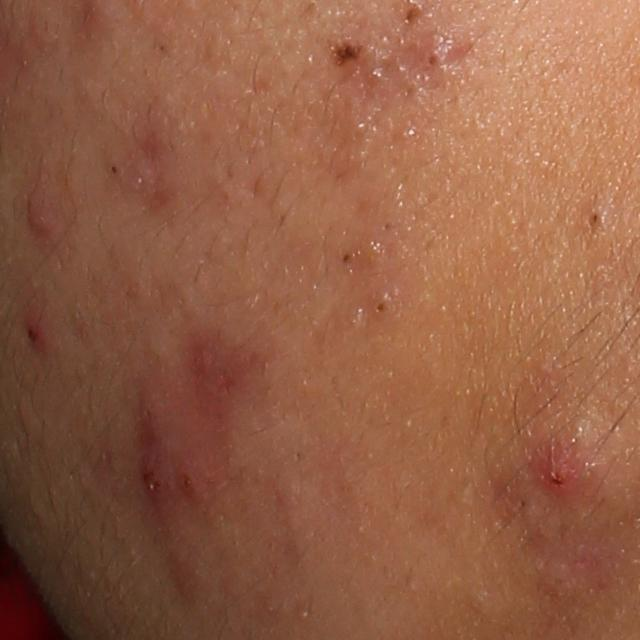atrophic_scar: (136, 130, 172, 203), (441, 39, 475, 71)
comedo: (415, 41, 448, 77), (369, 290, 394, 326), (584, 206, 606, 236), (104, 158, 129, 178), (333, 248, 356, 267)
nevus: (327, 35, 366, 66)
nodule: (122, 383, 214, 526)
papule: (524, 432, 598, 502), (18, 309, 54, 368), (23, 187, 59, 244)
